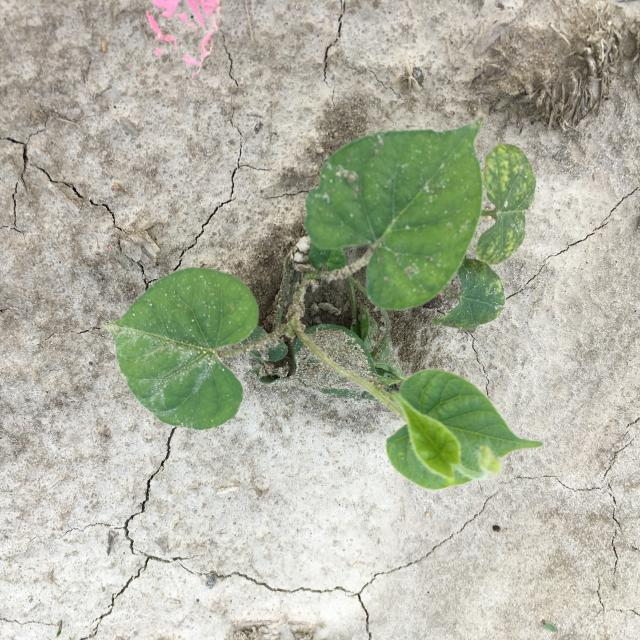MorningGlory: (103, 118, 544, 492)
